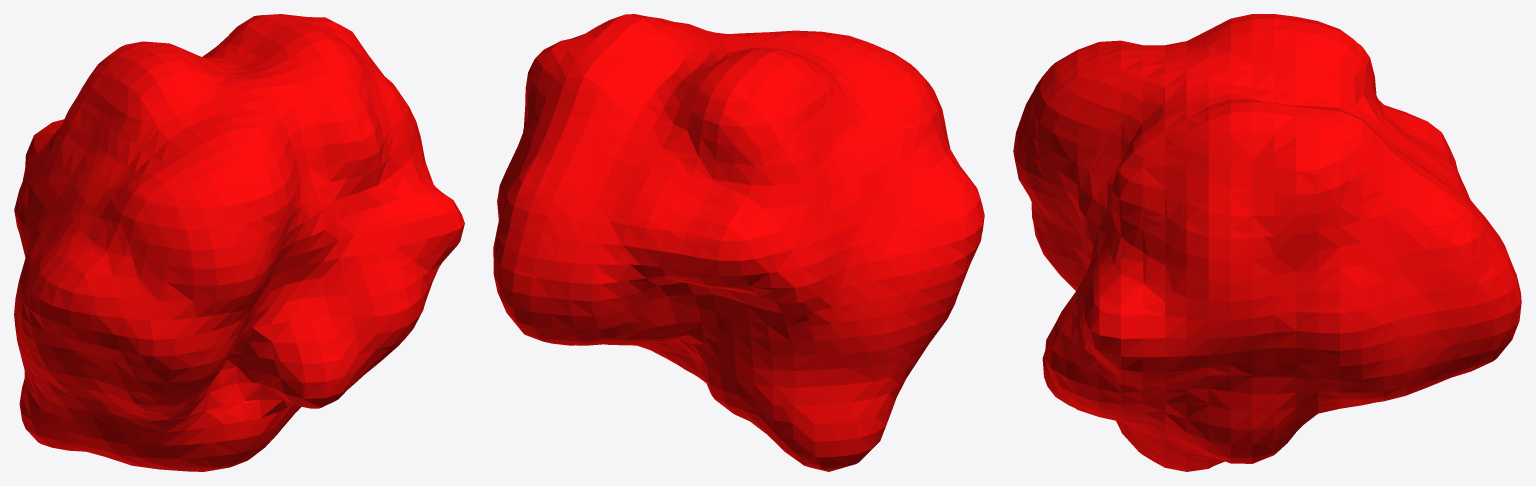
File: yhhW_coarse.dae
3 renders of one model, left to right at view 1: azimuth 30°, elevation 25°; view 2: azimuth 150°, elevation 25°; view 3: azimuth 270°, elevation 25°, orthographic. The views are drawn at different scales.
Visible parts, largest first — view 1: yhhW; view 2: yhhW; view 3: yhhW.
Part boxes in pixels (x1,y1,x2,y2): yhhW: (14, 14, 464, 471); yhhW: (493, 14, 984, 471); yhhW: (1013, 14, 1521, 471).
Bounding box in the file's own units: 50.3 × 45.71 × 48.62.
